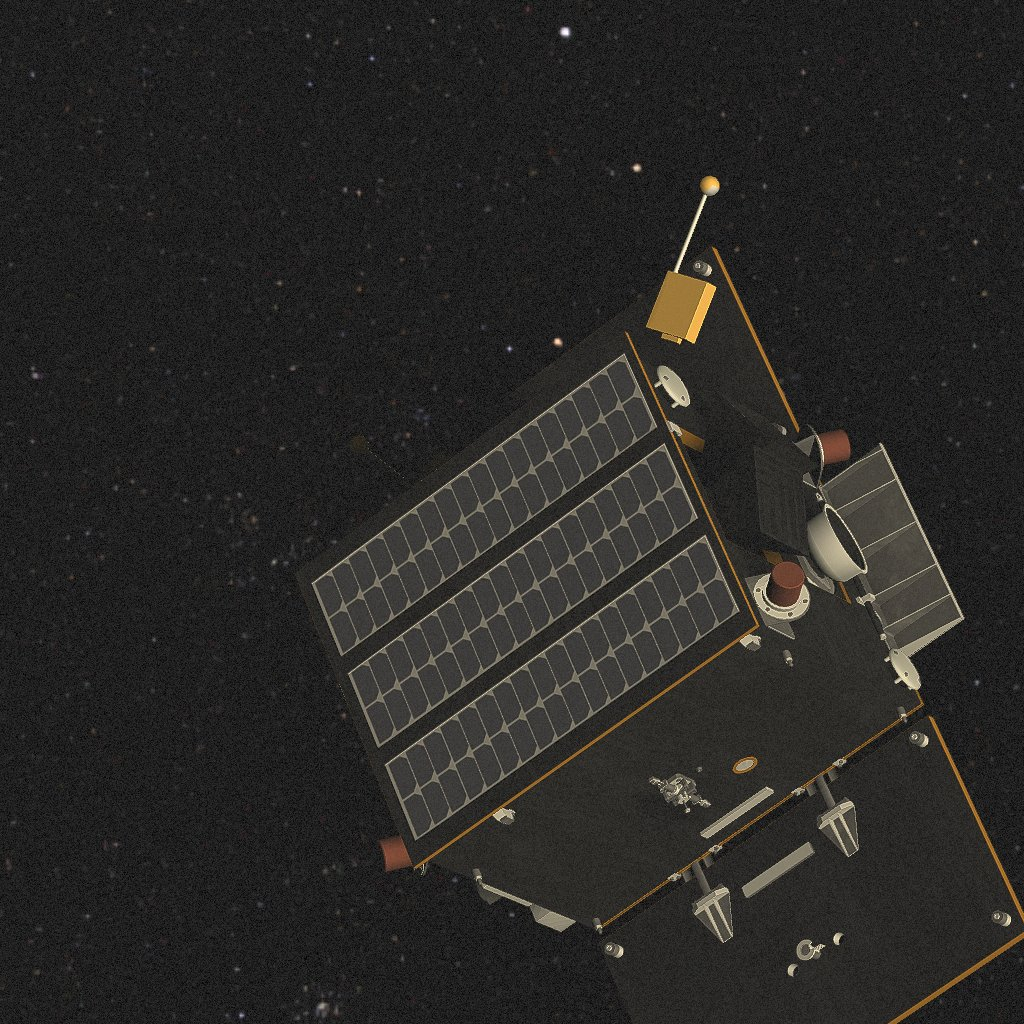proba_2: (295, 176, 1024, 1024)
